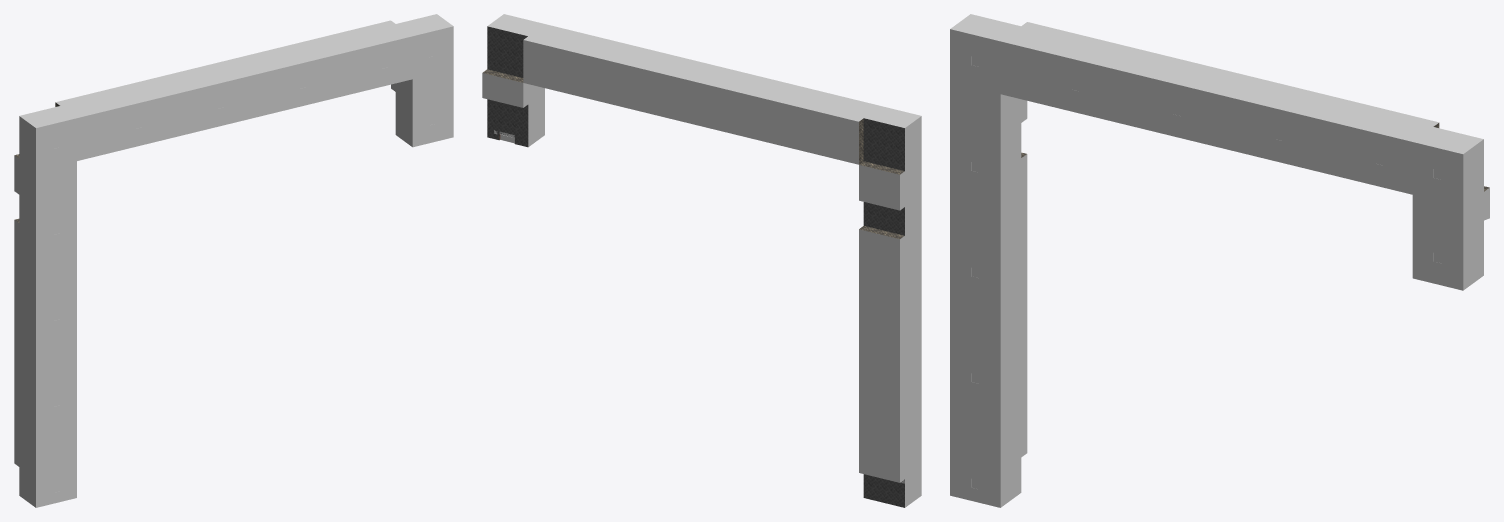
3 views of the same model, side by side, from view 1: azimuth 30°, elevation 25°; view 2: azimuth 150°, elevation 25°; view 3: azimuth 330°, elevation 25° (orthographic). The views are drawn at different scales.
Visible parts, largest first — view 1: BSP_Object.model_0; view 2: BSP_Object.model_0; view 3: BSP_Object.model_0.
Boxes of the visible parts, bbox=[...] form: BSP_Object.model_0: bbox=[14, 14, 453, 507]; BSP_Object.model_0: bbox=[482, 14, 921, 507]; BSP_Object.model_0: bbox=[950, 14, 1489, 507].
Bounding box in the file's own units: 3904 × 3392 × 352.
18 materials, 17 textured.
